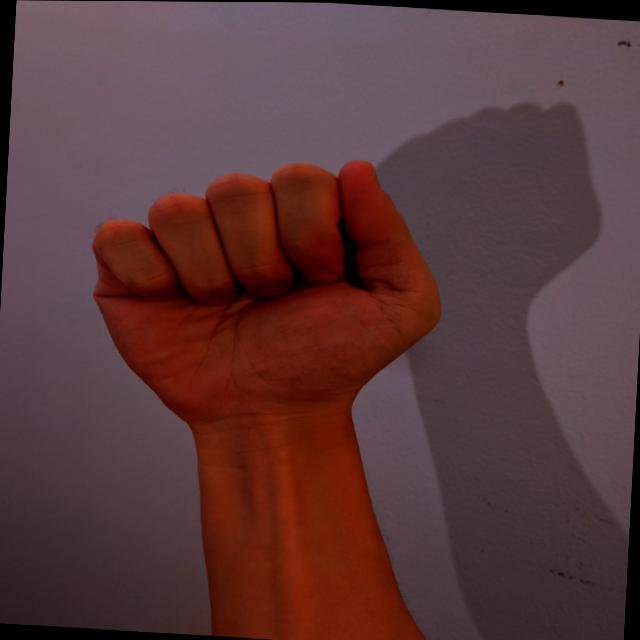A: (73, 136, 458, 457)
